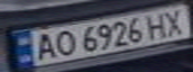2: (109, 18, 133, 47)
6: (78, 24, 100, 53), (127, 15, 148, 44)
9: (93, 20, 115, 51)
A: (27, 30, 60, 62)
H: (142, 11, 172, 39)
O: (51, 28, 78, 57)
X: (157, 7, 190, 36)
